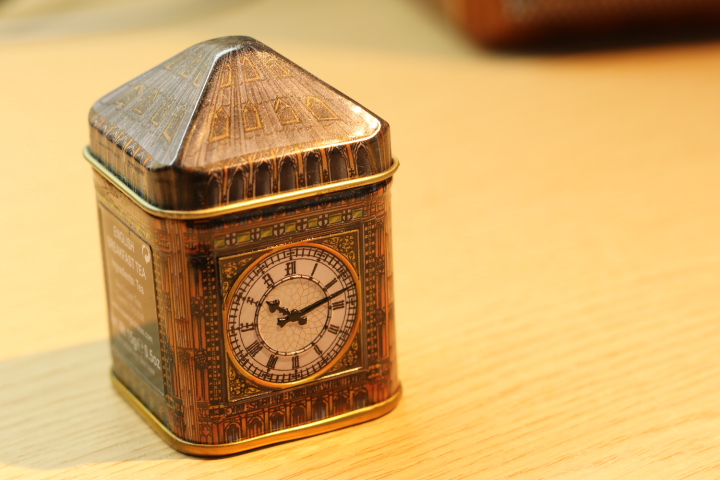Big Ben: (73, 26, 418, 469)
